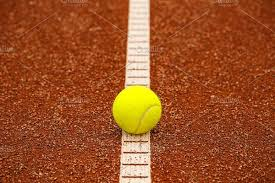tennis_ball: (112, 85, 163, 136)
